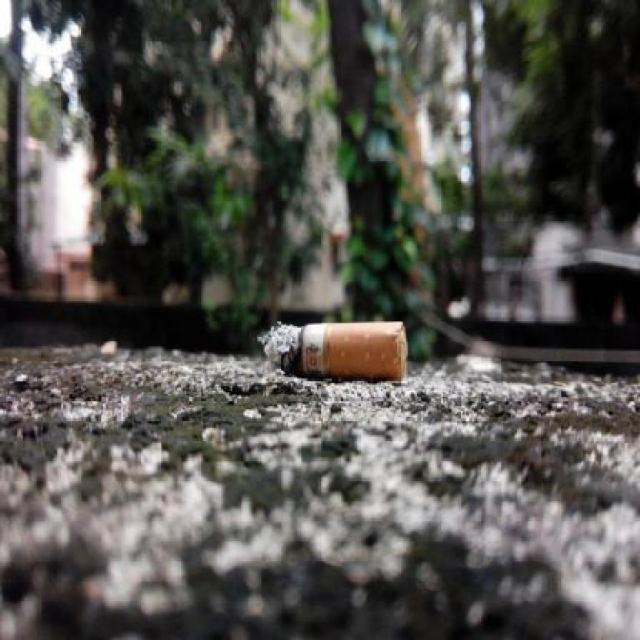cigarette: (221, 308, 422, 399)
